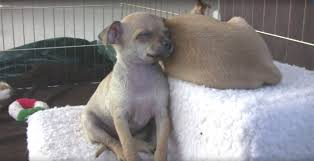chihuahua: (88, 12, 175, 161)
